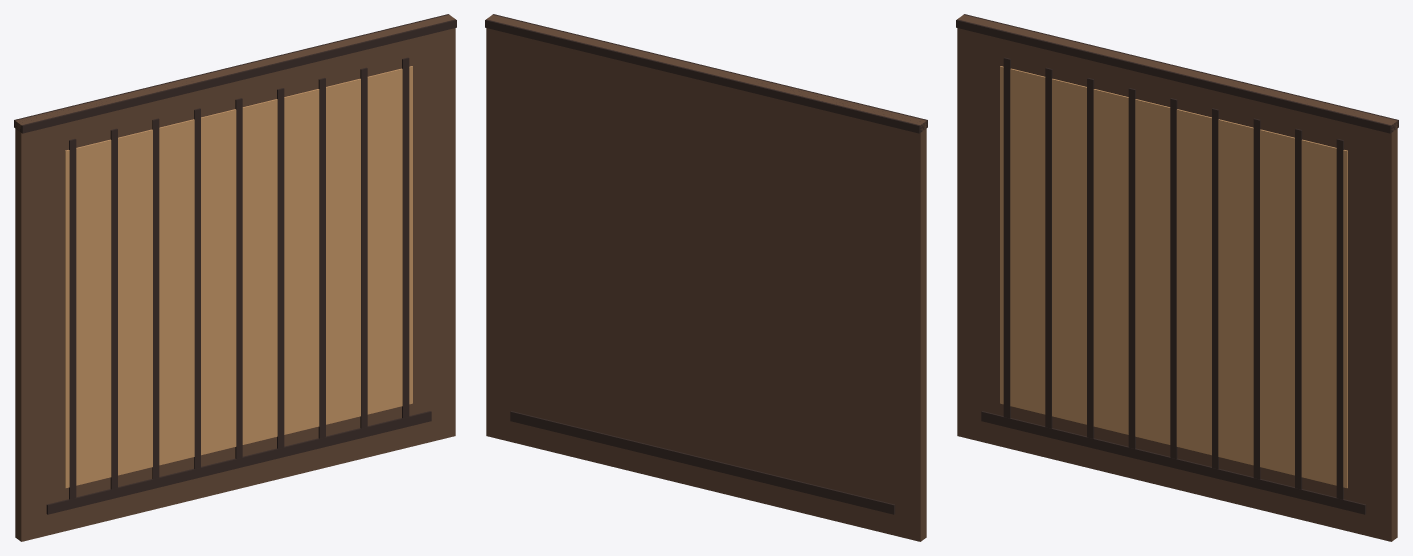
3 renders of one model, left to right at view 1: azimuth 30°, elevation 25°; view 2: azimuth 150°, elevation 25°; view 3: azimuth 330°, elevation 25°, orthographic.
Visible parts, largest first — view 1: background-content, background-surface, background-edge, background-slat-rail, background-accent-slat-8, background-accent-slat-5, background-accent, background-accent-slat-7, background-accent-slat-1, background-accent-slat-2, background-accent-slat-4, background-accent-slat-6 (+1 smaller); view 2: background-surface, background-edge, background-slat-rail; view 3: background-content, background-surface, background-edge, background-slat-rail, background-accent, background-accent-slat-3, background-accent-slat-8, background-accent-slat-1, background-accent-slat-6, background-accent-slat-7, background-accent-slat-4, background-accent-slat-2 (+1 smaller).
Part boxes in pixels (x1,y1,x2,y2): background-content: [65, 66, 412, 488]; background-surface: [15, 15, 455, 541]; background-edge: [14, 14, 456, 133]; background-slat-rail: [46, 411, 431, 514]; background-accent-slat-8: [402, 57, 409, 418]; background-accent-slat-5: [277, 88, 284, 448]; background-accent: [69, 139, 76, 499]; background-accent-slat-7: [360, 67, 367, 428]; background-accent-slat-1: [110, 128, 117, 489]; background-accent-slat-2: [152, 118, 159, 479]; background-accent-slat-4: [235, 98, 242, 458]; background-accent-slat-6: [318, 78, 325, 438]; background-surface: [486, 15, 926, 541]; background-edge: [485, 14, 927, 133]; background-slat-rail: [510, 411, 895, 514]; background-content: [1000, 66, 1347, 488]; background-surface: [957, 15, 1397, 541]; background-edge: [956, 14, 1398, 133]; background-slat-rail: [981, 411, 1366, 514]; background-accent: [1003, 57, 1010, 418]; background-accent-slat-3: [1128, 88, 1135, 448]; background-accent-slat-8: [1336, 139, 1343, 499]; background-accent-slat-1: [1045, 67, 1052, 428]; background-accent-slat-6: [1253, 118, 1260, 479]; background-accent-slat-7: [1295, 128, 1302, 489]; background-accent-slat-4: [1170, 98, 1177, 458]; background-accent-slat-2: [1087, 78, 1094, 438].
Size of the model in its own units: 2.4 by 2.2 by 0.08.
